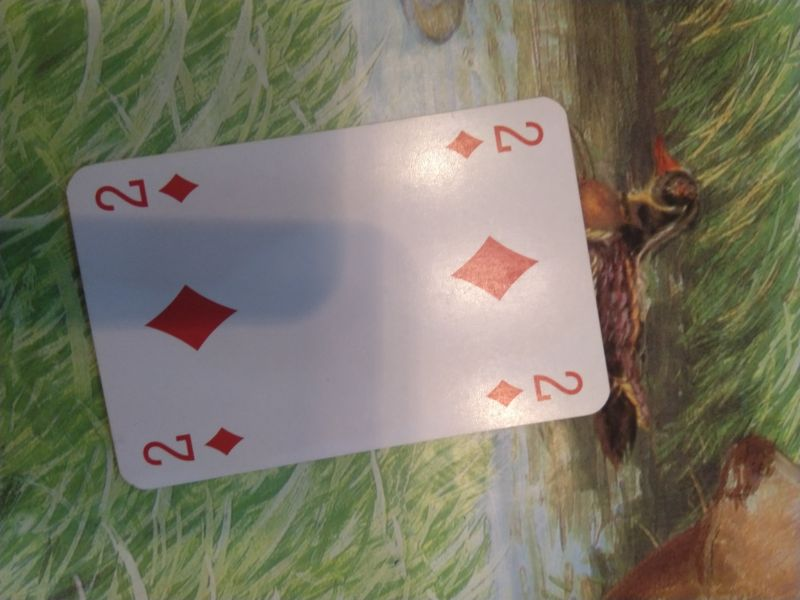2d: (141, 419, 248, 474), (91, 167, 201, 216), (445, 113, 551, 163), (485, 368, 589, 411)
